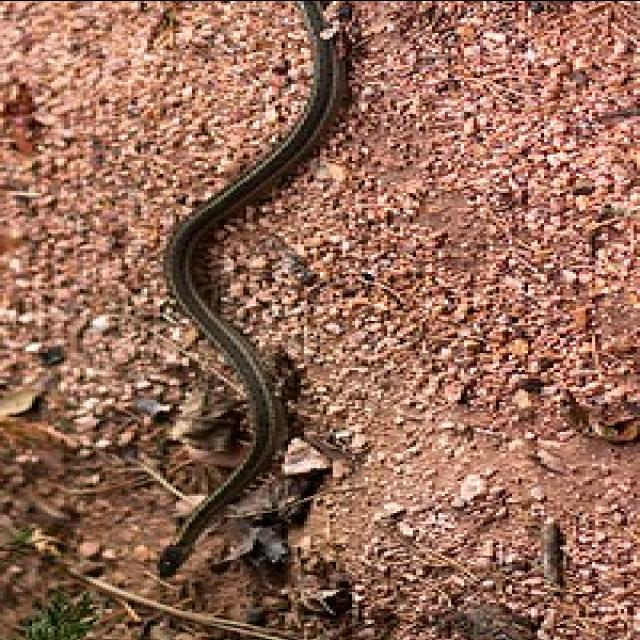Snake: (147, 0, 384, 578)
